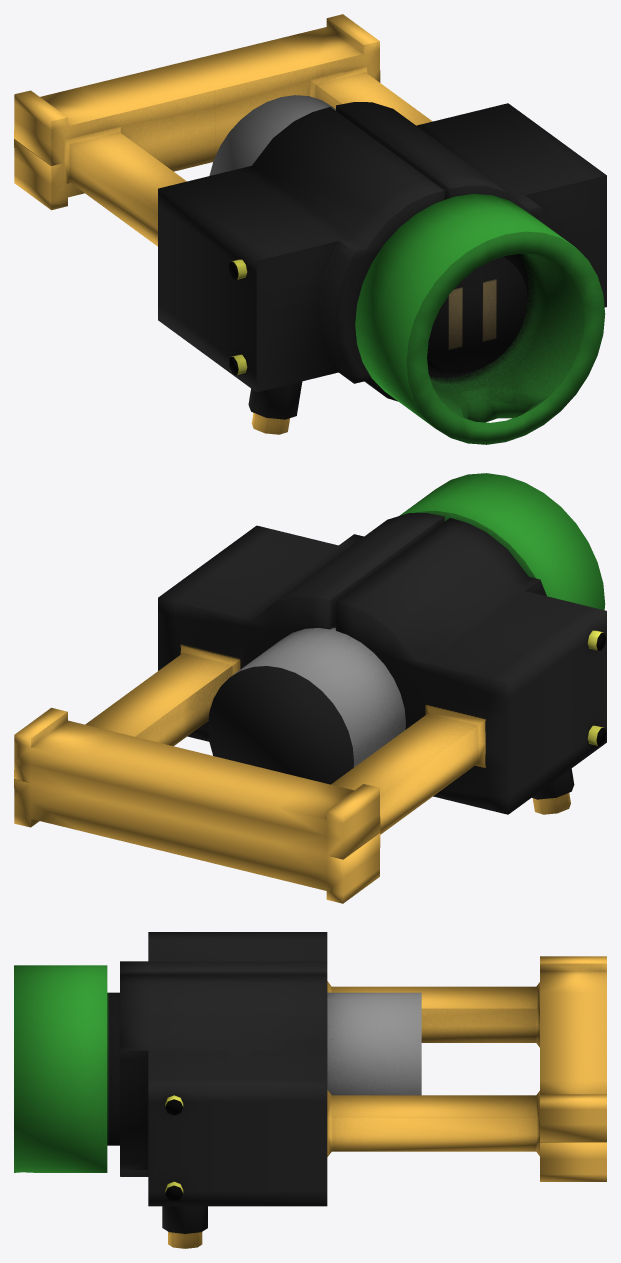
Rendered from Hybrid Connector-Inner.dae.
3 views of the same model, one above another, from view 1: azimuth 30°, elevation 25°; view 2: azimuth 150°, elevation 25°; view 3: azimuth 270°, elevation 25° (orthographic). The views are drawn at different scales.
Parts seen in each view (by area): view 1: Inner-Plug; view 2: Inner-Plug; view 3: Inner-Plug.
Part boxes in pixels (box(x1,y1,x2,y2)): Inner-Plug: box(14, 14, 606, 444); Inner-Plug: box(14, 473, 606, 903); Inner-Plug: box(14, 932, 606, 1248).
Bounding box in the file's own units: 1.85 × 2.85 × 1.12.
